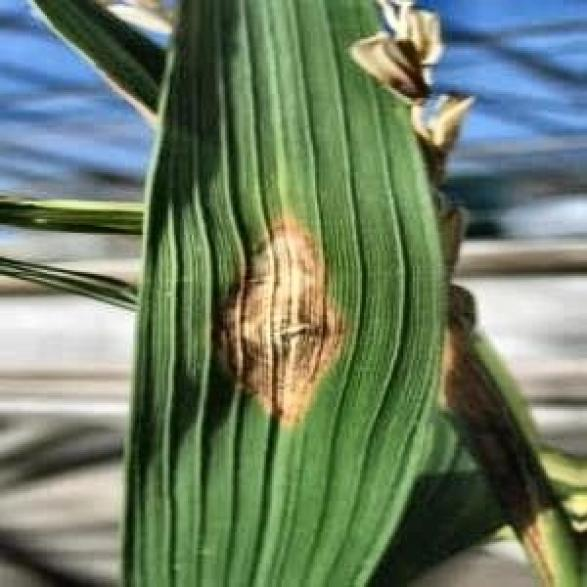Leaf_smut: (204, 198, 352, 434)
